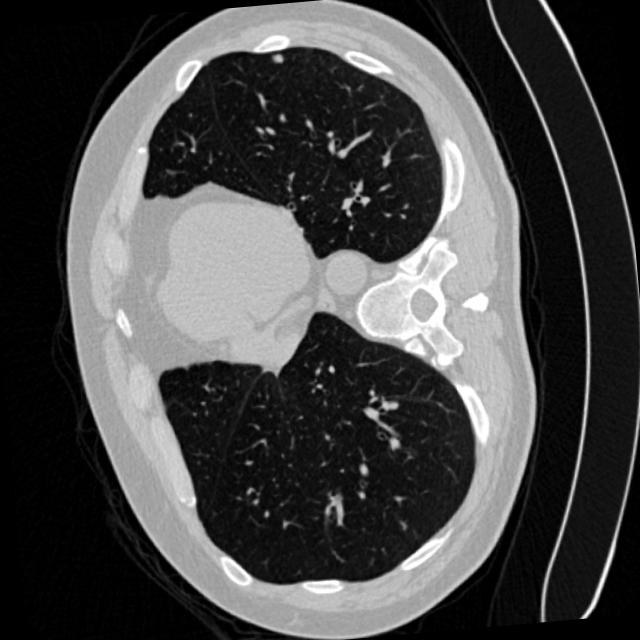nodule: (264, 45, 290, 72)
